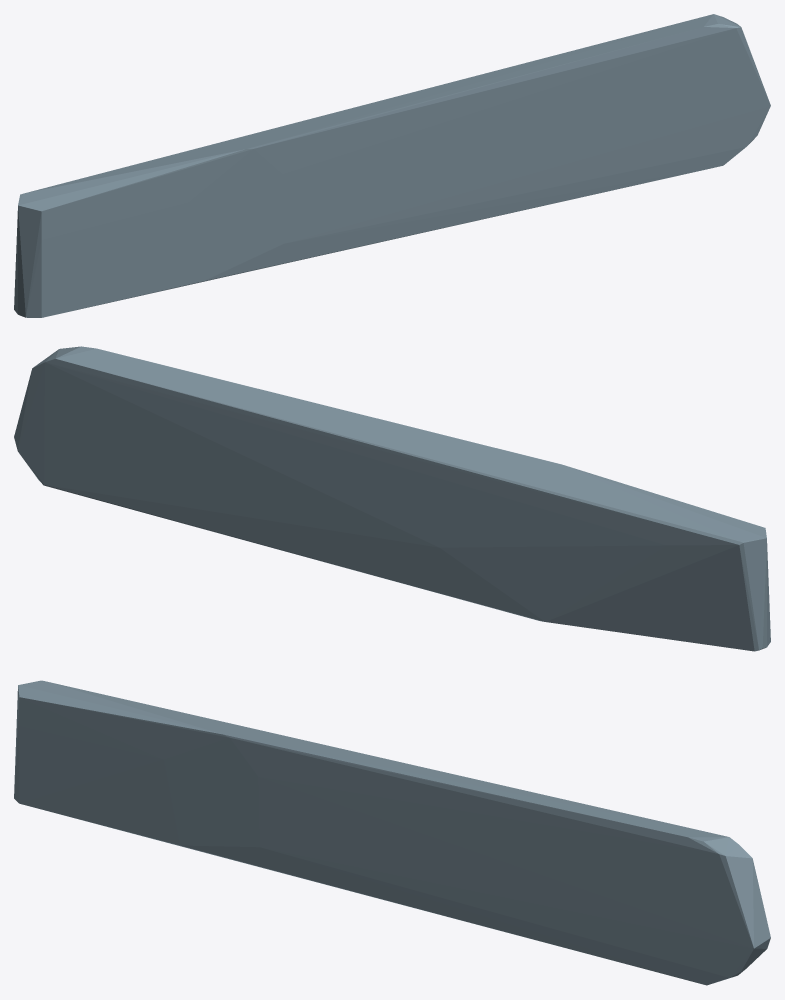
The model's file is handTool_wrench_3_4in_b01.glb.
The picture shows the model from 3 angles, top to bottom: view 1: azimuth 30°, elevation 25°; view 2: azimuth 150°, elevation 25°; view 3: azimuth 330°, elevation 25°; orthographic projection.
Visible parts, largest first — view 1: geometry_0; view 2: geometry_0; view 3: geometry_0.
Boxes of the visible parts, left/top/right/bottom form: geometry_0: left=14, top=14, right=770, bottom=317; geometry_0: left=14, top=346, right=770, bottom=651; geometry_0: left=14, top=680, right=770, bottom=985.
Bounding box in the file's own units: 0.4793 × 0.0899 × 0.0266.
